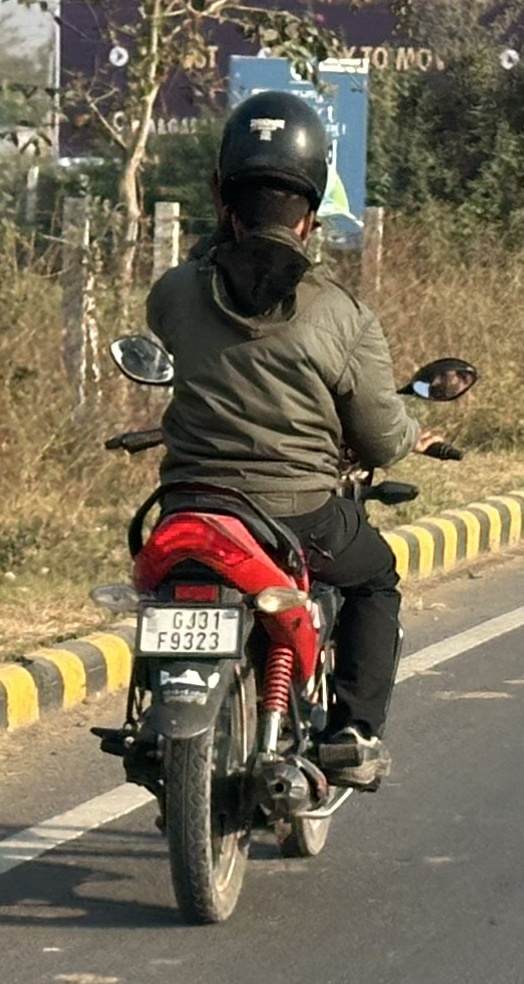BikeWithRider: (73, 76, 488, 936)
Helmet: (192, 79, 343, 282)
